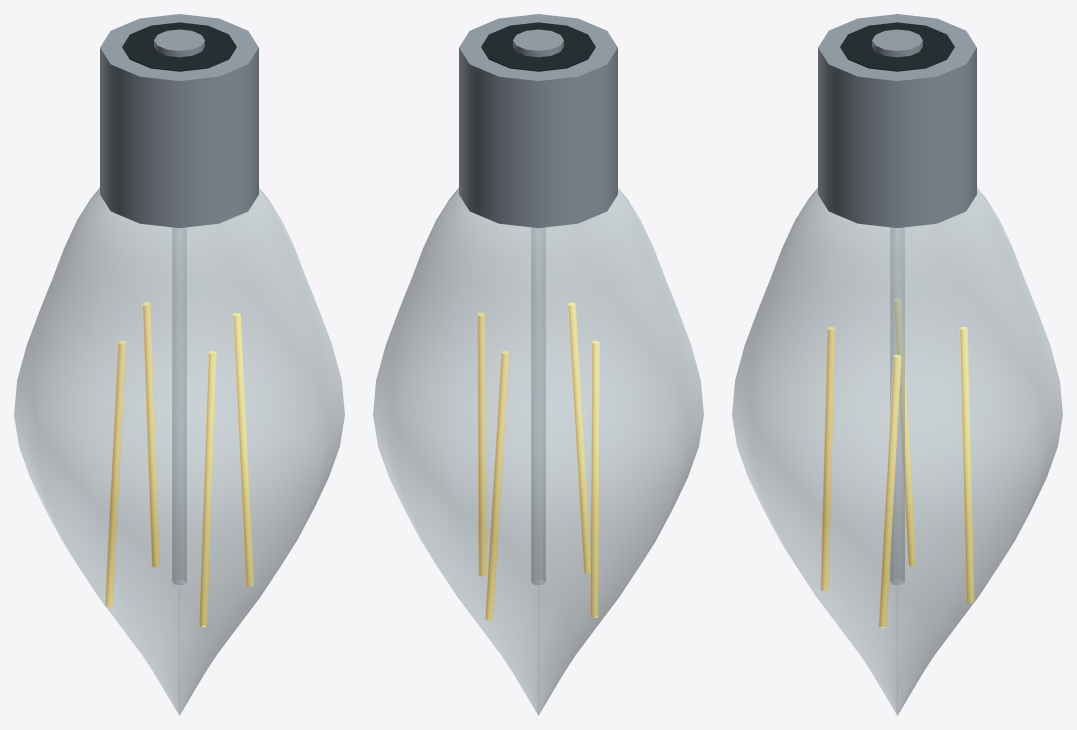
Rendered from source.glb.
3 renders of one model, left to right at view 1: azimuth 30°, elevation 25°; view 2: azimuth 150°, elevation 25°; view 3: azimuth 270°, elevation 25°, orthographic.
Parts seen in each view (by area): view 1: 光学透明件, 机加工金属, Emitters, 密封及绝缘件; view 2: 光学透明件, 机加工金属, Emitters, 密封及绝缘件; view 3: 光学透明件, 机加工金属, Emitters, 密封及绝缘件.
Boxes of the visible parts, left/top/right/bottom form: 光学透明件: left=14, top=188, right=344, bottom=715; 机加工金属: left=100, top=14, right=258, bottom=227; Emitters: left=105, top=302, right=253, bottom=626; 密封及绝缘件: left=122, top=22, right=236, bottom=71; 光学透明件: left=373, top=188, right=703, bottom=715; 机加工金属: left=459, top=14, right=617, bottom=227; Emitters: left=477, top=302, right=599, bottom=620; 密封及绝缘件: left=481, top=22, right=595, bottom=71; 光学透明件: left=732, top=188, right=1062, bottom=715; 机加工金属: left=818, top=14, right=976, bottom=227; Emitters: left=820, top=299, right=974, bottom=627; 密封及绝缘件: left=840, top=22, right=954, bottom=71.
Size of the model in its own units: 0.035 by 0.0789 by 0.035.
